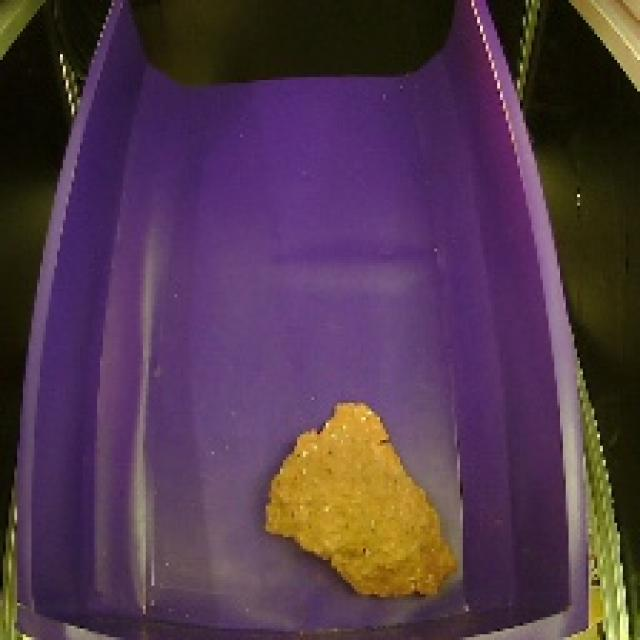brick: (253, 389, 461, 610)
